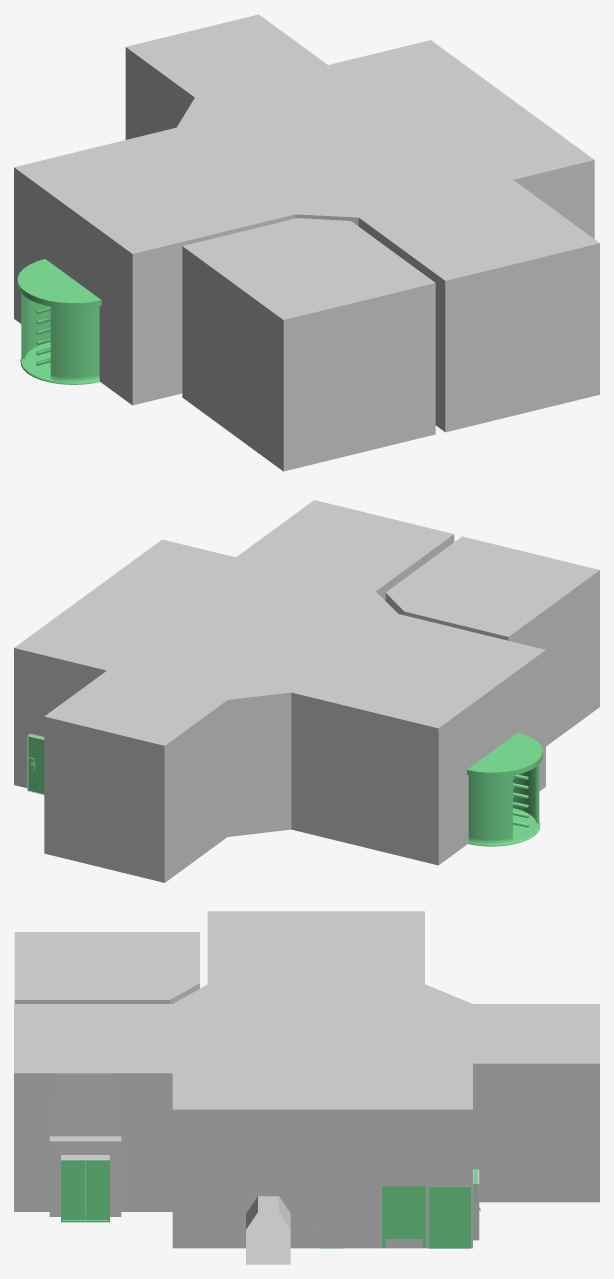
Rendered from Entrance.fbx.
3 renders of one model, top to bottom at view 1: azimuth 30°, elevation 25°; view 2: azimuth 150°, elevation 25°; view 3: azimuth 270°, elevation 25°, orthographic. The views are drawn at different scales.
Parts seen in each view (by area): view 1: Entrance, BathroomSouth, Revolving Door Frame; view 2: Entrance, BathroomSouth, Revolving Door Frame, Door.001; view 3: Entrance, BathroomSouth, Cabinent, Shelf, ElevatorDoor1, ElevatorDoor2, ElevatorFrame.
Boxes of the visible parts, x1,y1,x2,y2 form: Entrance: [14, 14, 599, 432]; BathroomSouth: [182, 218, 435, 471]; Revolving Door Frame: [17, 259, 101, 384]; Entrance: [14, 500, 545, 882]; BathroomSouth: [385, 536, 599, 746]; Revolving Door Frame: [467, 732, 542, 846]; Door.001: [28, 734, 44, 794]; Entrance: [14, 911, 599, 1264]; BathroomSouth: [14, 932, 199, 1003]; Cabinent: [428, 1186, 470, 1248]; Shelf: [382, 1186, 425, 1248]; ElevatorDoor1: [85, 1161, 108, 1219]; ElevatorDoor2: [62, 1161, 85, 1219]; ElevatorFrame: [61, 1160, 109, 1222].
Bounding box in the file's own units: 1942 × 534 × 2039.
